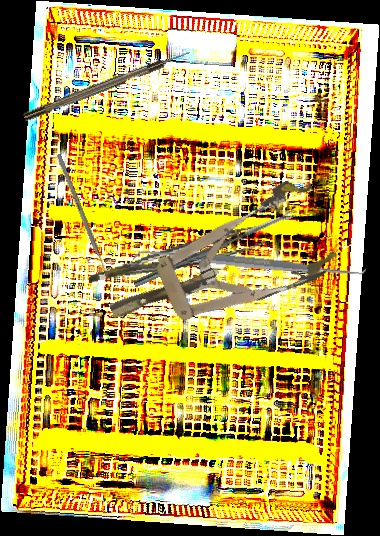Hook Surgical: (22, 48, 192, 122)
Pusher: (55, 153, 113, 284)
Spatula Surgical: (132, 237, 367, 289)
Speculum: (91, 172, 346, 358)
Surgical Spoon: (132, 209, 298, 289)
Tissue Forceps: (84, 225, 268, 283)
